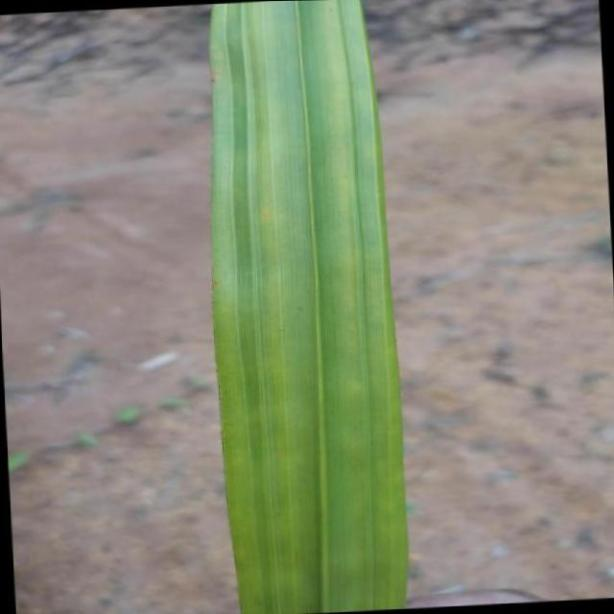nitrogen: (208, 0, 406, 614)
